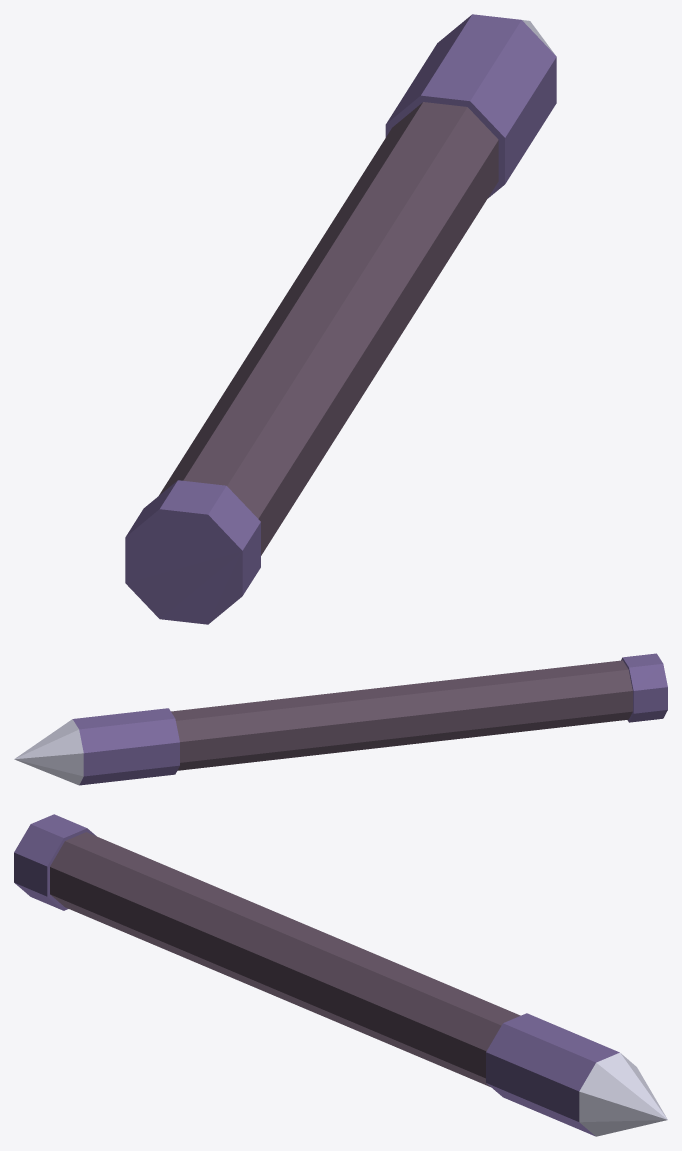
File: ce_ammo2_s8_thermo_a.obj
3 views of the same model, one above another, from view 1: azimuth 30°, elevation 25°; view 2: azimuth 150°, elevation 25°; view 3: azimuth 270°, elevation 25° (orthographic). The views are drawn at different scales.
Parts seen in each view (by area): view 1: ce_ammo2_s8_thermo_a_1, ce_ammo2_s8_thermo_a_0, ce_ammo2_s8_thermo_a_2; view 2: ce_ammo2_s8_thermo_a_1, ce_ammo2_s8_thermo_a_2, ce_ammo2_s8_thermo_a_3, ce_ammo2_s8_thermo_a_0; view 3: ce_ammo2_s8_thermo_a_1, ce_ammo2_s8_thermo_a_2, ce_ammo2_s8_thermo_a_3, ce_ammo2_s8_thermo_a_0.
Part boxes in pixels (bbox=[...]): ce_ammo2_s8_thermo_a_1: bbox=[159, 102, 498, 555]; ce_ammo2_s8_thermo_a_0: bbox=[125, 480, 260, 624]; ce_ammo2_s8_thermo_a_2: bbox=[385, 14, 556, 198]; ce_ammo2_s8_thermo_a_1: bbox=[171, 660, 632, 770]; ce_ammo2_s8_thermo_a_2: bbox=[72, 708, 179, 785]; ce_ammo2_s8_thermo_a_3: bbox=[14, 719, 83, 785]; ce_ammo2_s8_thermo_a_0: bbox=[621, 653, 667, 722]; ce_ammo2_s8_thermo_a_1: bbox=[50, 832, 520, 1086]; ce_ammo2_s8_thermo_a_2: bbox=[486, 1013, 619, 1136]; ce_ammo2_s8_thermo_a_3: bbox=[579, 1052, 667, 1136]; ce_ammo2_s8_thermo_a_0: bbox=[14, 814, 96, 910].
Bounding box in the file's own units: 0.6948 × 0.0869 × 0.6948.
